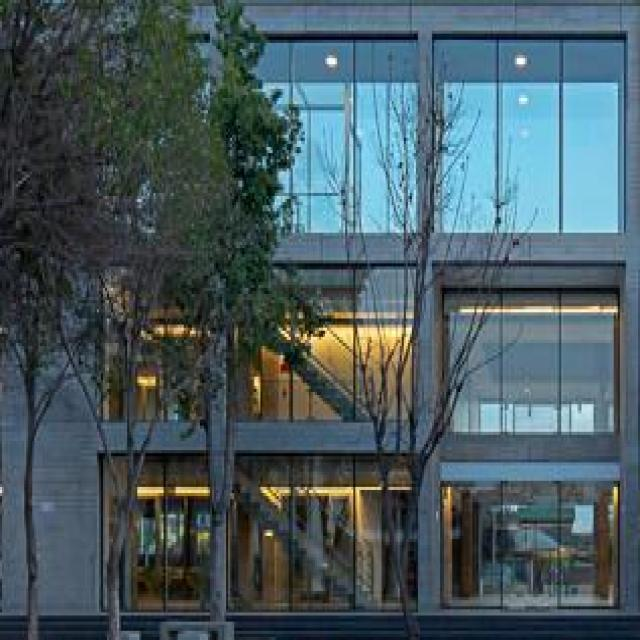window: (433, 42, 625, 234), (254, 37, 418, 227), (238, 263, 418, 421), (233, 462, 418, 609), (446, 288, 623, 432), (449, 475, 622, 604), (102, 457, 210, 608)
